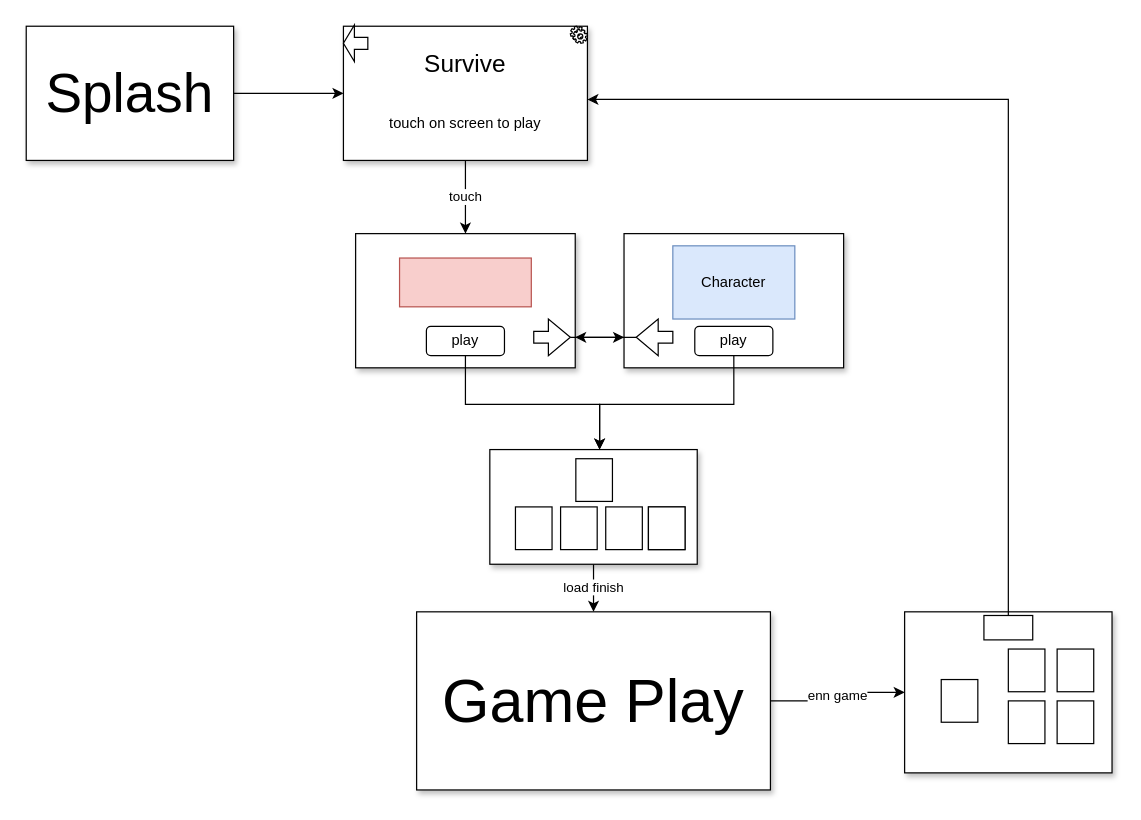
The diagram is 1141 pixels wide and 820 high, and some of its shapes have lost their labels. Here are the shapes that lost their labels. From the top down, the centre of each, then its label:
At pixel 464 282: "Map".
At pixel 1008 627: "Result".
